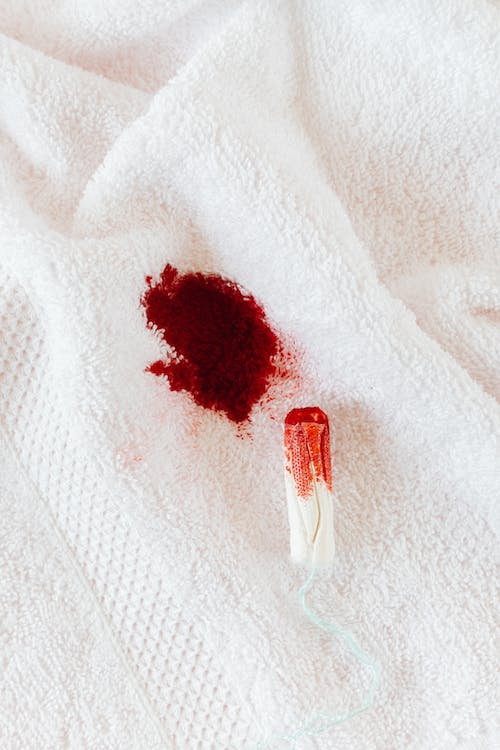blood: (136, 257, 312, 444), (282, 402, 335, 502)
